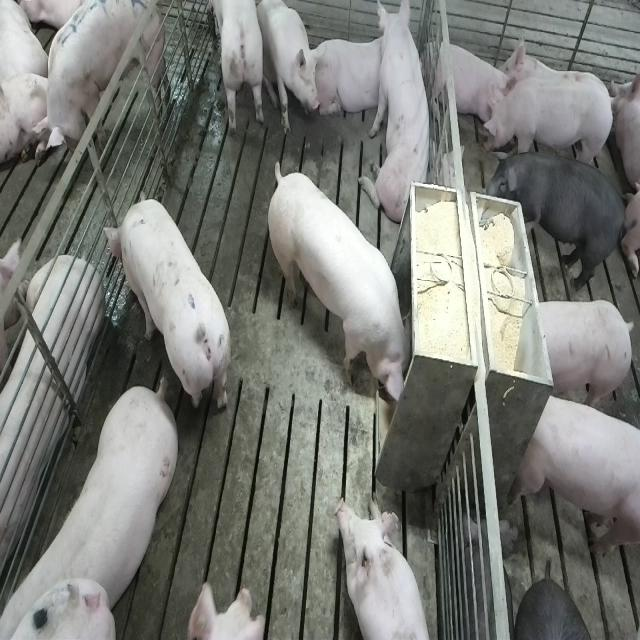Feeding: (272, 161, 421, 409)
Sitting: (364, 4, 436, 231), (257, 1, 320, 139)
Standing: (5, 372, 184, 633), (102, 197, 232, 422), (515, 387, 639, 566), (26, 0, 165, 154), (486, 145, 628, 289), (480, 73, 617, 168), (530, 296, 634, 414), (205, 1, 264, 140)
Sternal_lying: (0, 242, 101, 578), (336, 496, 434, 640), (427, 35, 511, 134), (311, 35, 390, 122)
